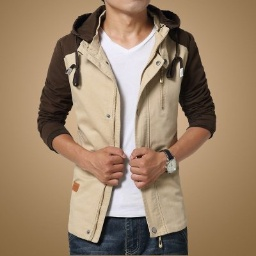face: (98, 1, 159, 36)
